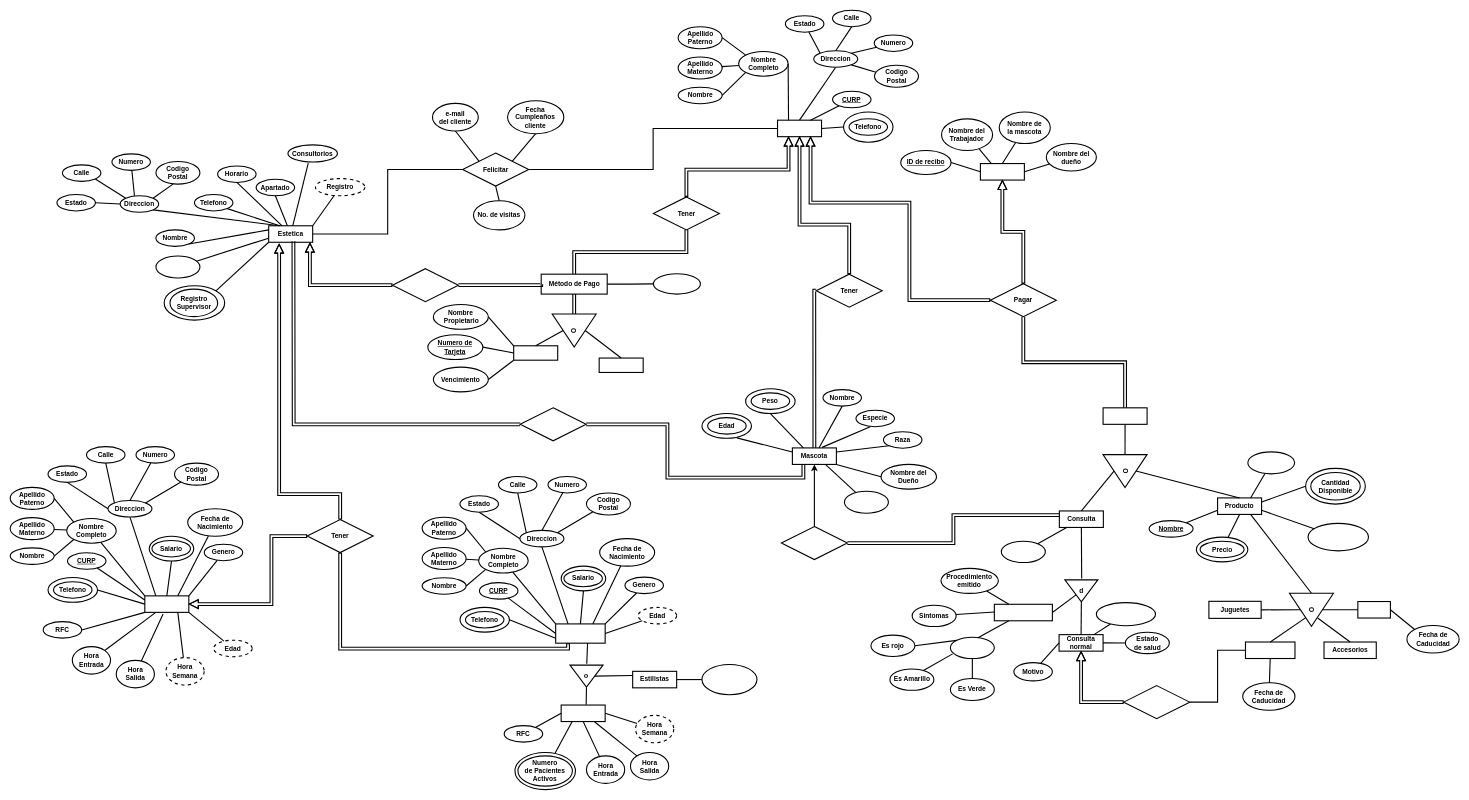
Some shapes in this 1469 by 800 pixel diagram are drawn without their labels. The box of each missing label's shape, as (x1, y1, x2, y2) in pixels:
Asiste: (781, 526, 848, 560)
Calcular: (392, 268, 459, 302)
Codigo: (950, 636, 995, 659)
Comida: (1357, 601, 1391, 618)
Consulta Emergencia: (994, 603, 1053, 621)
Cuidar: (519, 407, 586, 441)
Descripcion: (1247, 451, 1295, 474)
Dueño: (777, 119, 822, 137)
Efectivo: (598, 357, 643, 373)
Fecha nueva revision: (1096, 602, 1156, 626)
ID Consulta: (1001, 540, 1046, 563)
Id Estetica: (155, 255, 200, 278)
Id Mascota: (844, 490, 889, 513)
Medicamentos: (1245, 641, 1295, 659)
Nombre de la imagen: (1307, 522, 1369, 551)
Numero de Certificado: (701, 664, 757, 695)
Pago Total: (653, 273, 701, 294)
Recetar: (1123, 685, 1190, 719)
Recibo: (980, 163, 1025, 180)
Servicio: (1102, 407, 1147, 425)
Supervisor: (144, 595, 189, 613)
Tarjeta: (513, 345, 558, 360)
Trabajador: (555, 623, 605, 643)
Veterinarios: (560, 704, 605, 722)
